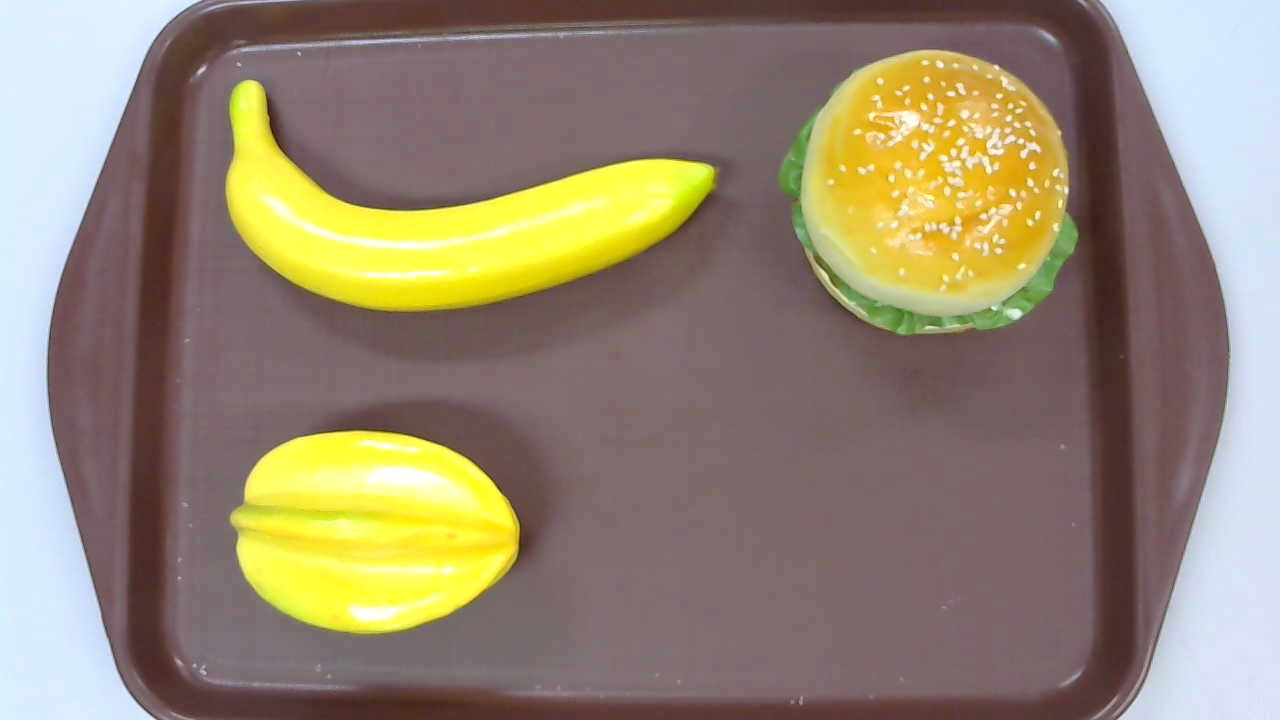banana: (225, 79, 722, 316)
hamburger: (778, 49, 1078, 340)
star fruit: (230, 428, 520, 635)
